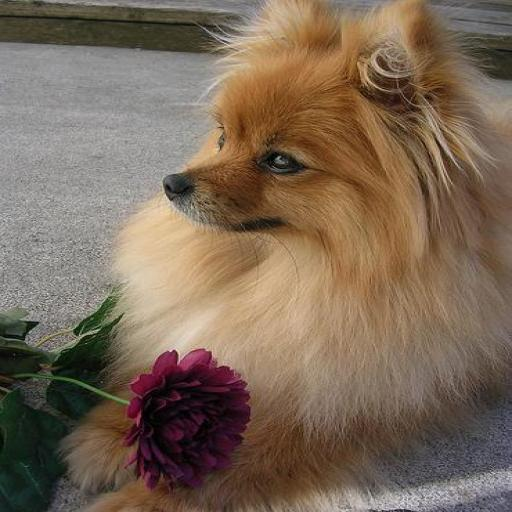dog_face: (155, 9, 437, 238)
